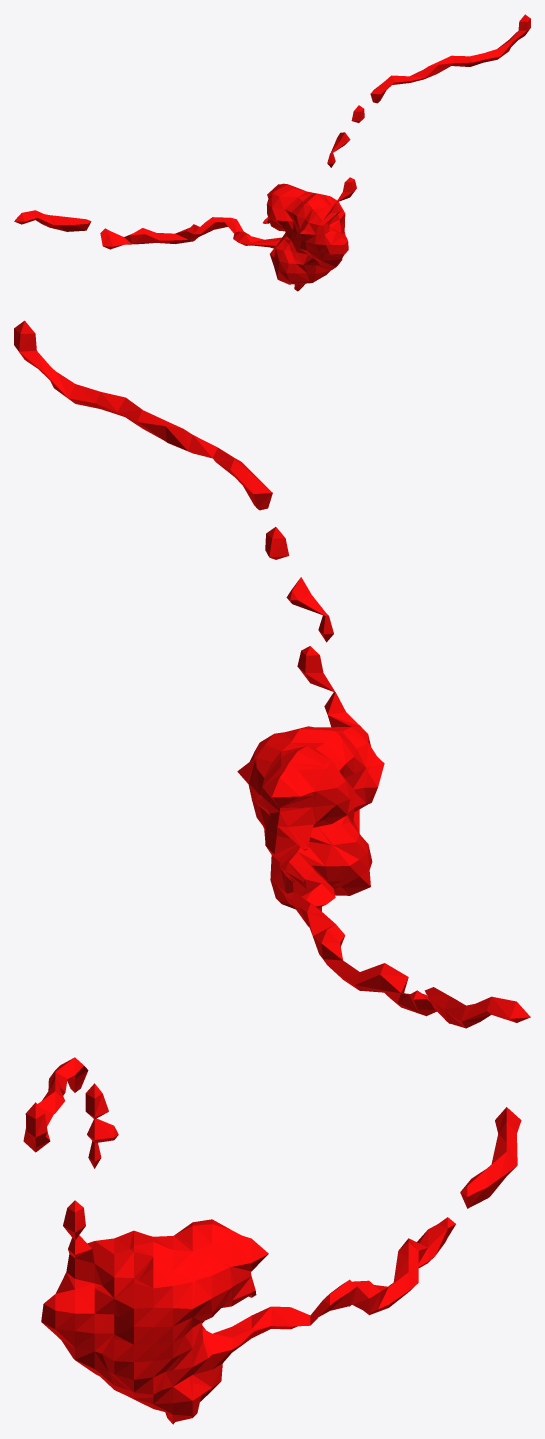
The model's file is fadE_coarse.dae.
3 views of the same model, one above another, from view 1: azimuth 30°, elevation 25°; view 2: azimuth 150°, elevation 25°; view 3: azimuth 270°, elevation 25° (orthographic). The views are drawn at different scales.
Parts seen in each view (by area): view 1: fadE; view 2: fadE; view 3: fadE.
Part boxes in pixels (left/top/right/bottom): fadE: left=14, top=14, right=530, bottom=291; fadE: left=14, top=320, right=530, bottom=1028; fadE: left=23, top=1057, right=521, bottom=1424.
Bounding box in the file's own units: 342 × 209 × 185.
